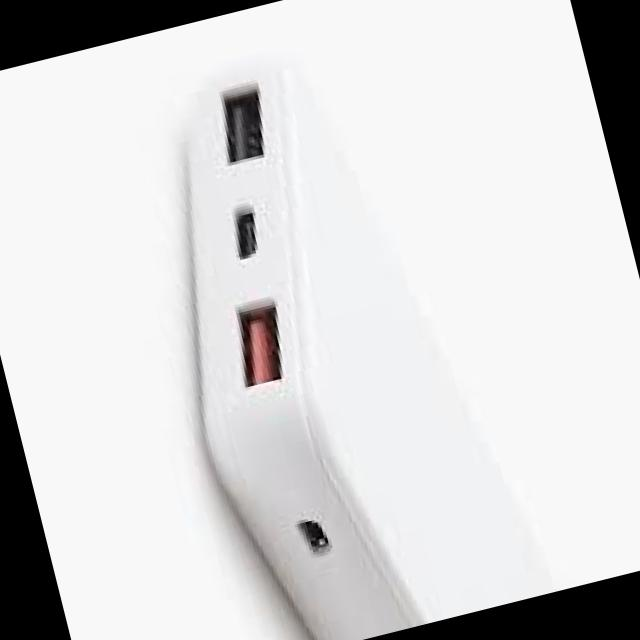portable-charger: (111, 18, 564, 640)
